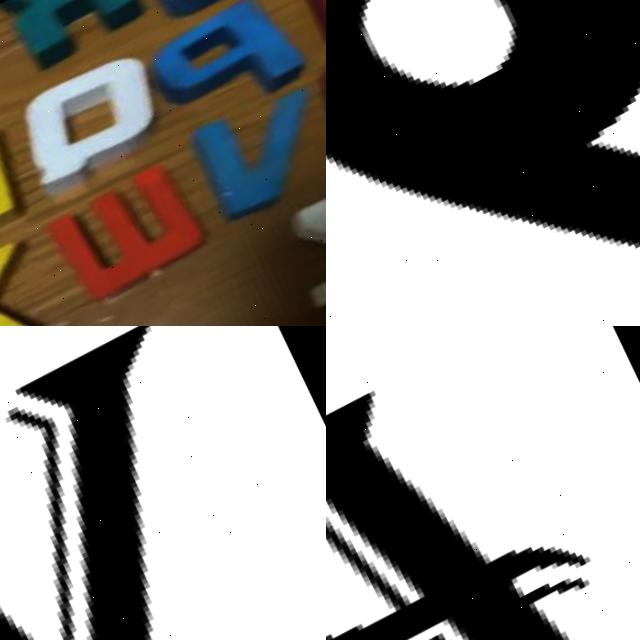9: (326, 0, 640, 326)
J: (117, 0, 285, 27)
K: (0, 0, 158, 77)
P: (326, 390, 591, 640), (142, 0, 316, 131)
Q: (3, 30, 193, 202)
R: (0, 111, 49, 278)
V: (0, 326, 326, 640), (183, 73, 326, 226)
W: (40, 151, 224, 315)
X: (0, 220, 80, 326)
Z: (273, 142, 326, 318)
